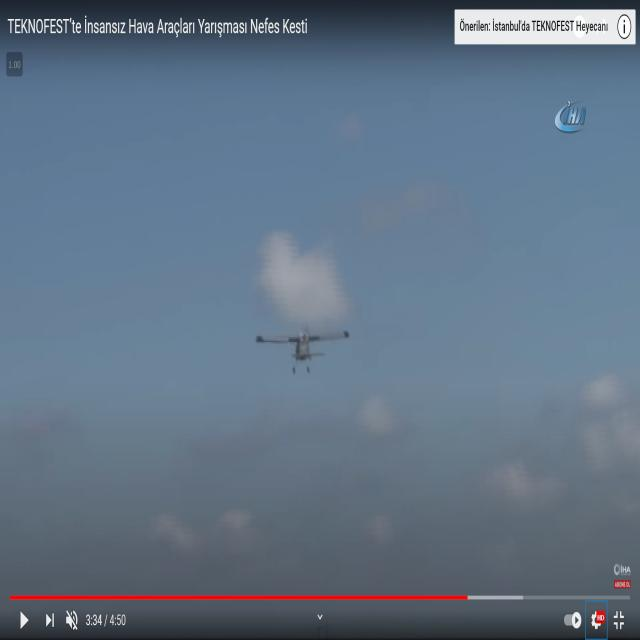iha: (284, 325, 318, 379)
